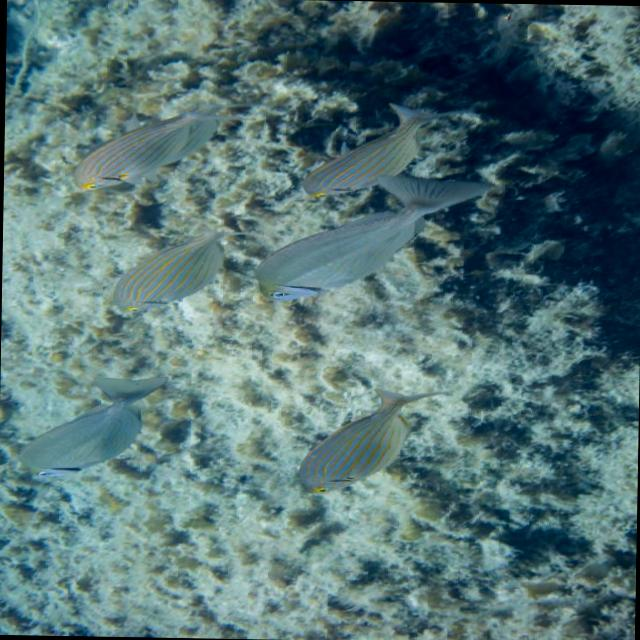Sokar Baligi: (1, 360, 180, 492), (282, 376, 454, 504), (282, 98, 482, 204), (51, 90, 240, 200), (85, 212, 256, 328)
